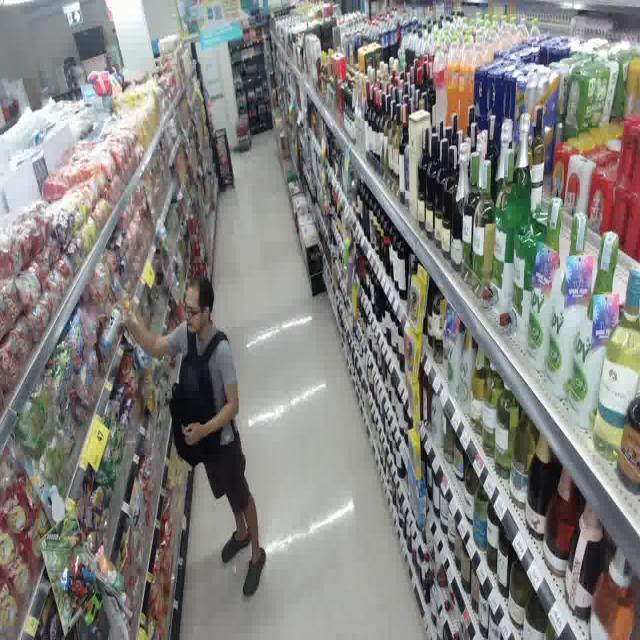pickup: (92, 250, 272, 606)
